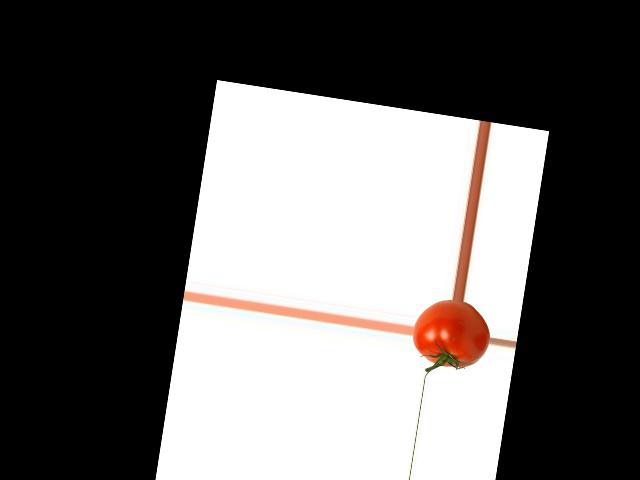tomato: (409, 295, 495, 373)
